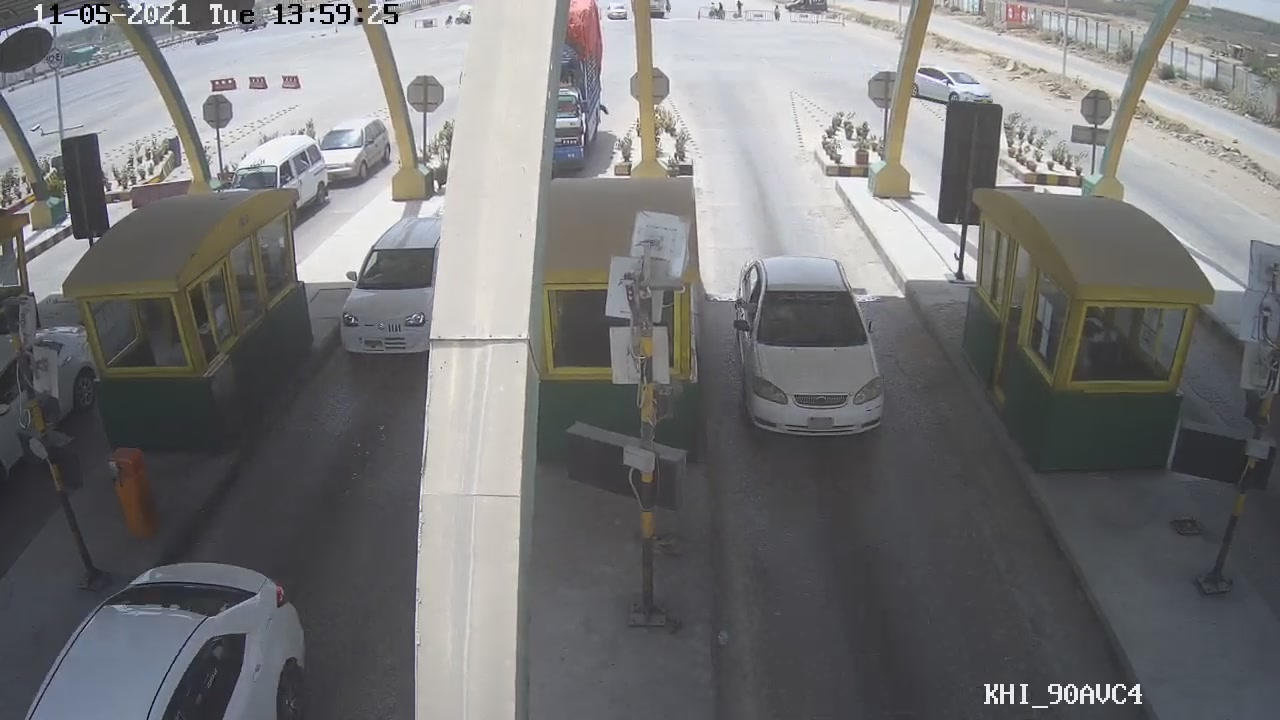F1: (729, 248, 892, 445)
